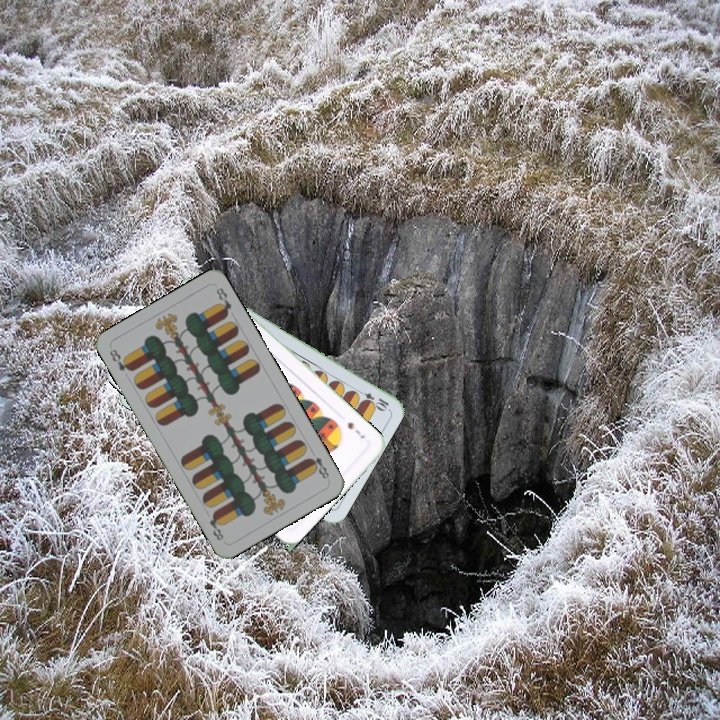E10: (353, 386, 391, 413)
E8: (105, 345, 135, 374), (304, 453, 332, 482)
S7: (343, 418, 368, 441)
